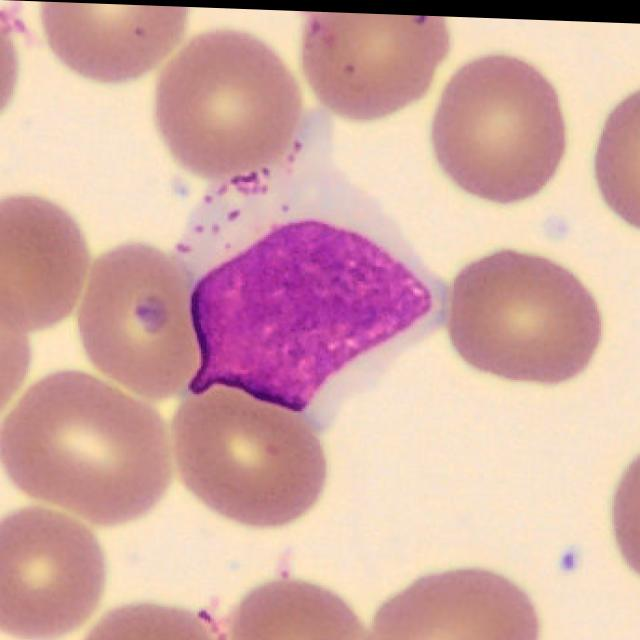Linfocito atipico: (173, 104, 443, 432)
